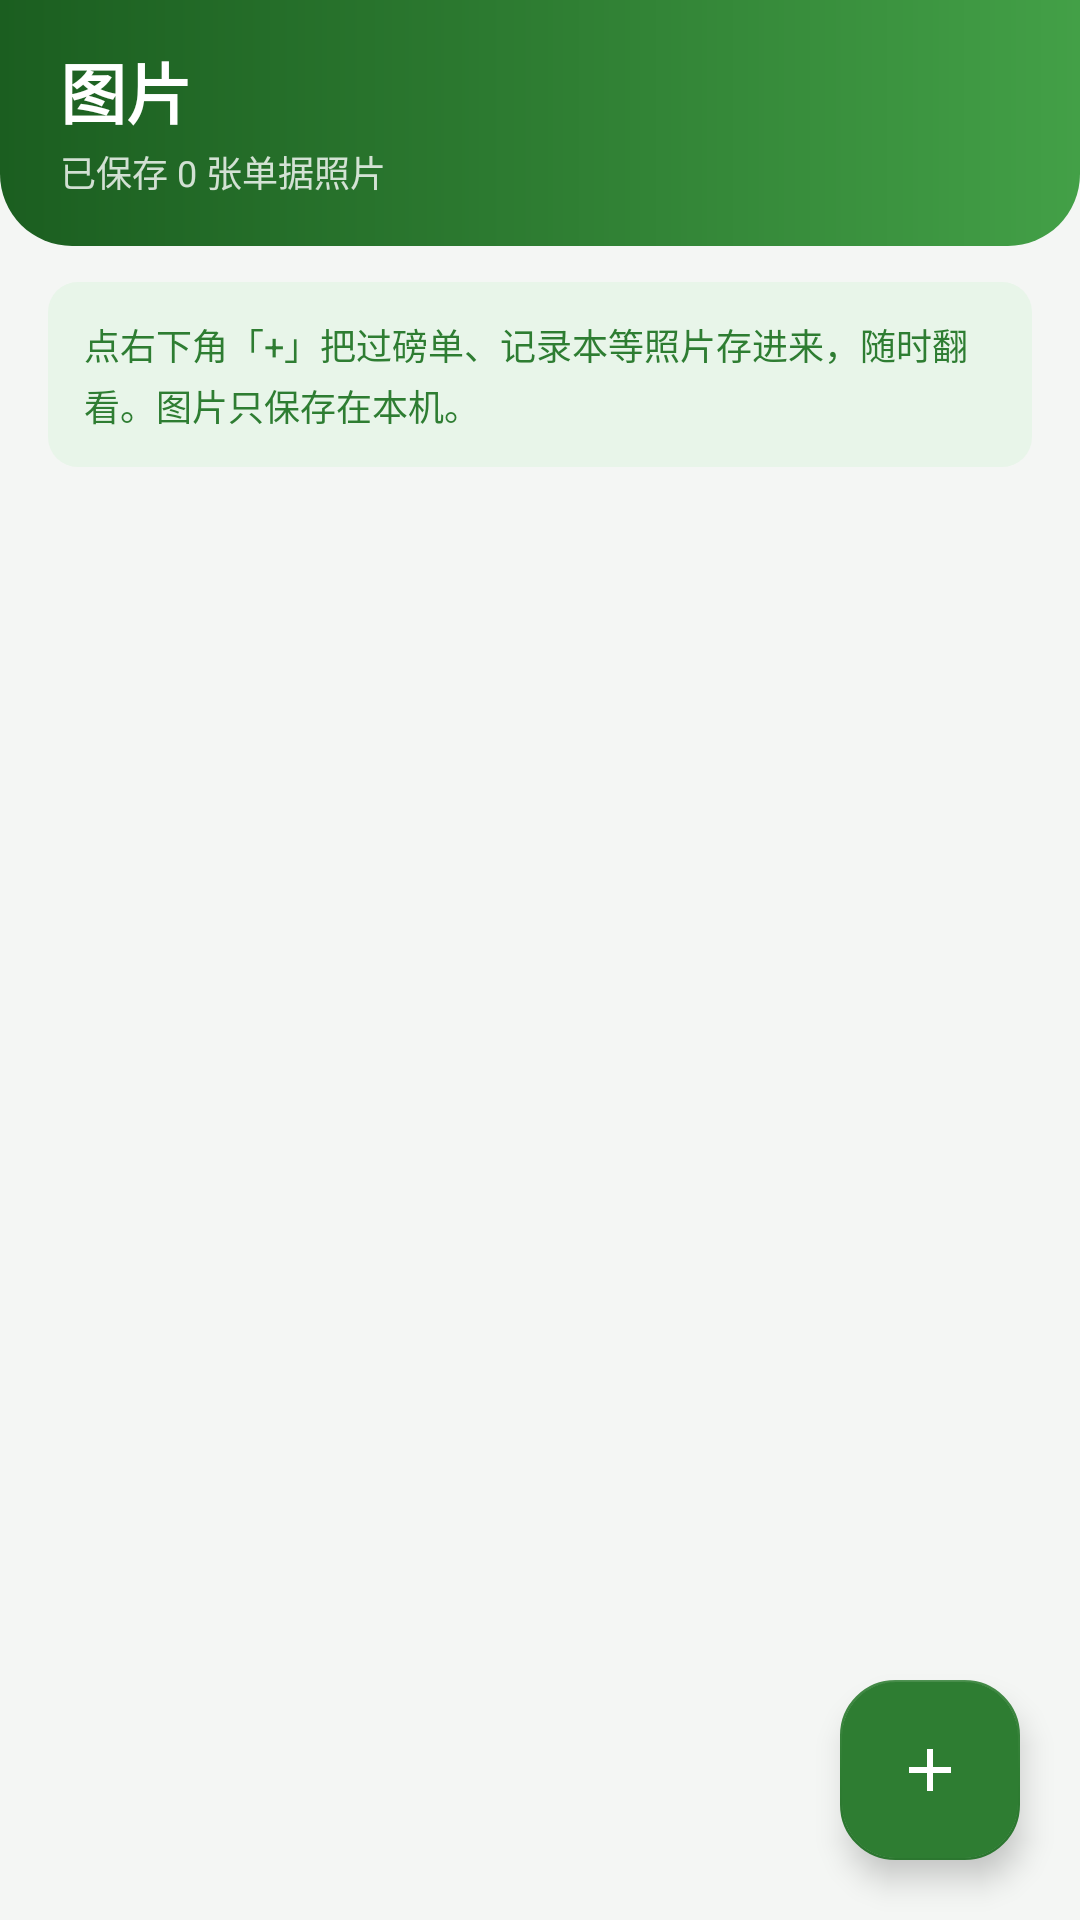

Icon click points for this 1080px×1920px phone screenshot, format point (x, y):
添加图片: point (930, 1770)
